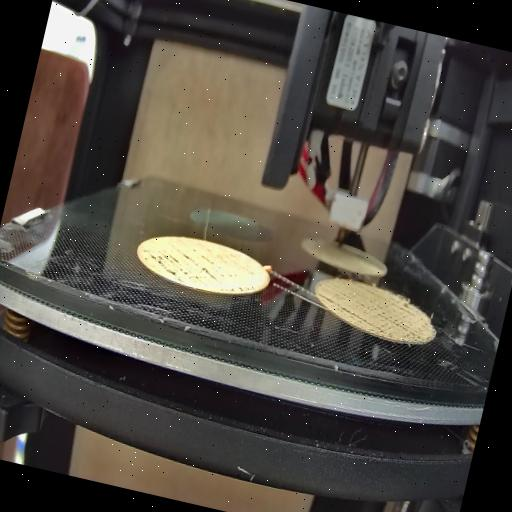under_extrusion: (135, 242, 258, 302), (314, 282, 428, 342)
